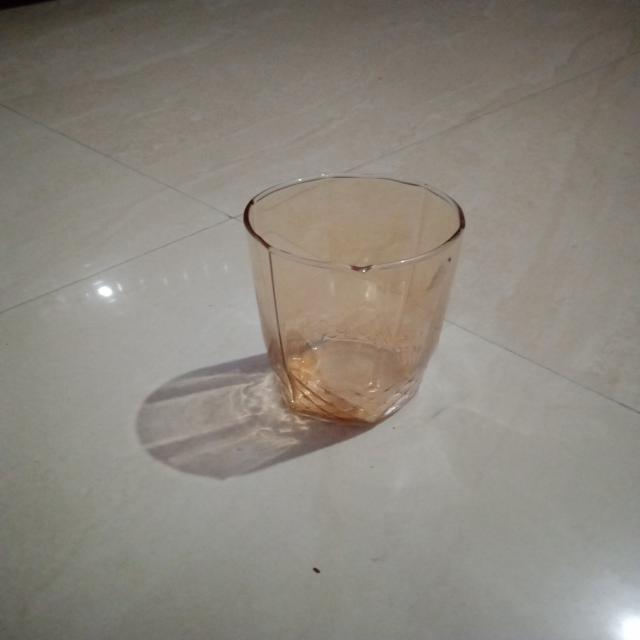Glass: (239, 169, 468, 429)
